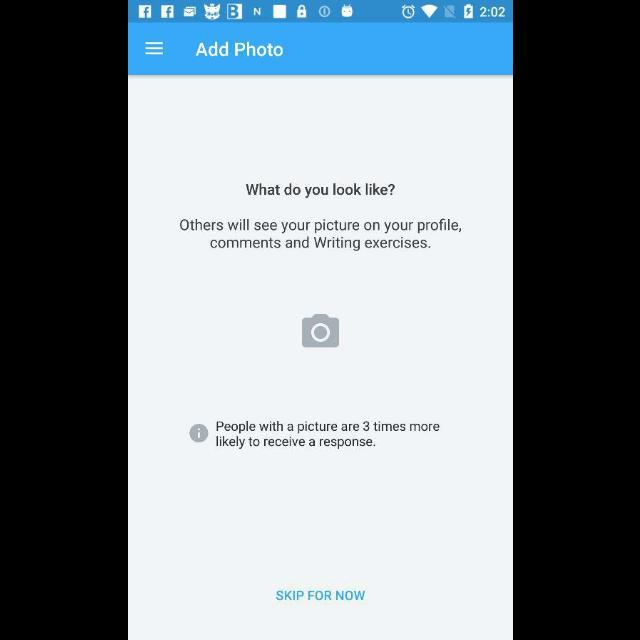icon: (302, 314, 338, 348), (188, 423, 208, 442), (145, 42, 163, 56)
text: (180, 218, 460, 252), (216, 421, 439, 449), (246, 183, 394, 199), (195, 42, 282, 58), (276, 590, 364, 600)
toolbar: (128, 24, 512, 76)
uppertaskbar: (128, 1, 512, 23)
